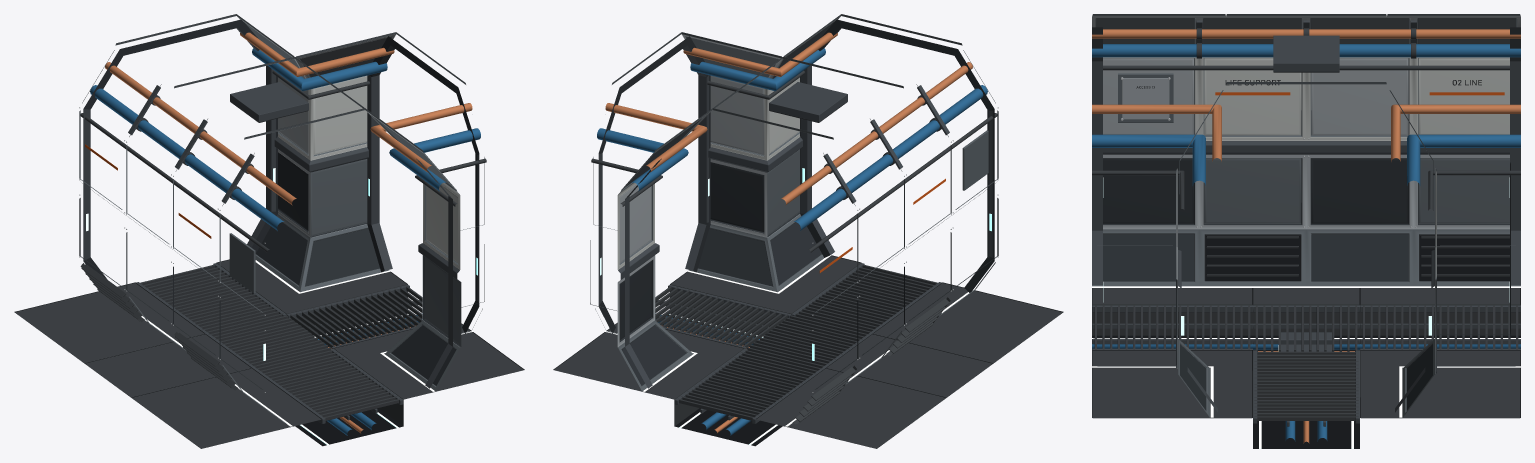
The model's file is corridor_tee.glb.
3 views of the same model, side by side, from view 1: azimuth 30°, elevation 25°; view 2: azimuth 150°, elevation 25°; view 3: azimuth 270°, elevation 25° (orthographic). The views are drawn at different scales.
Visible parts, largest first — view 1: corridor_tee_body, corridor_tee_detail, corridor_tee_pipes, corridor_tee_decal; view 2: corridor_tee_body, corridor_tee_detail, corridor_tee_pipes, corridor_tee_decal; view 3: corridor_tee_body, corridor_tee_detail, corridor_tee_pipes, corridor_tee_decal.
Part boxes in pixels (x1,y1,x2,y2): corridor_tee_body: (14, 14, 524, 448); corridor_tee_detail: (79, 82, 422, 423); corridor_tee_pipes: (80, 32, 486, 435); corridor_tee_decal: (85, 144, 477, 444); corridor_tee_body: (553, 14, 1063, 448); corridor_tee_detail: (655, 82, 998, 423); corridor_tee_pipes: (591, 32, 997, 435); corridor_tee_decal: (600, 168, 991, 444); corridor_tee_body: (1092, 14, 1520, 448); corridor_tee_detail: (1092, 20, 1520, 426); corridor_tee_pipes: (1092, 29, 1520, 443); corridor_tee_decal: (1092, 80, 1520, 448).
Size of the model in its own units: 4 by 3.2 by 4.
